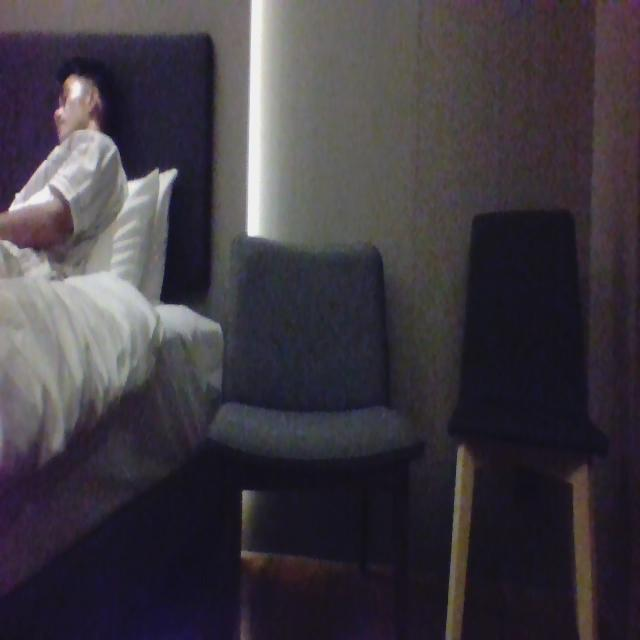empty: (216, 230, 406, 455), (455, 205, 591, 445)
